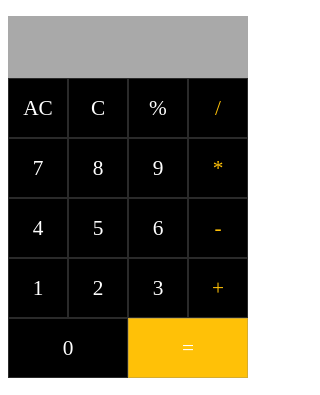
Test: Calculator › should backspace by one on click of `C`
Click the button with test id "calc-button-1" at (38, 288), box [8,258,68,318]
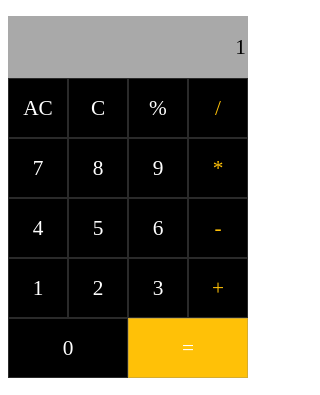
Click the button with test id "calc-button-3" at (158, 288), box [128,258,188,318]
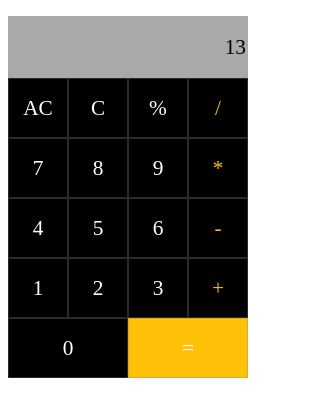
Expected: the field with test id "output-screen" holds "13", [8,16,248,78]
Click the button with test id "calc-button-C" at (98, 108), box [68,78,128,138]
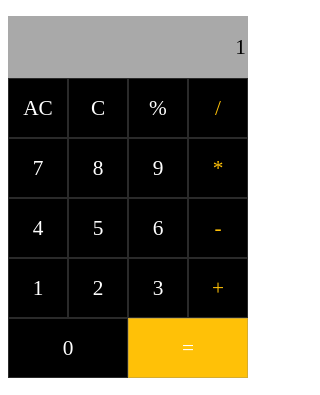
Expected: the field with test id "output-screen" holds "1", [8,16,248,78]
